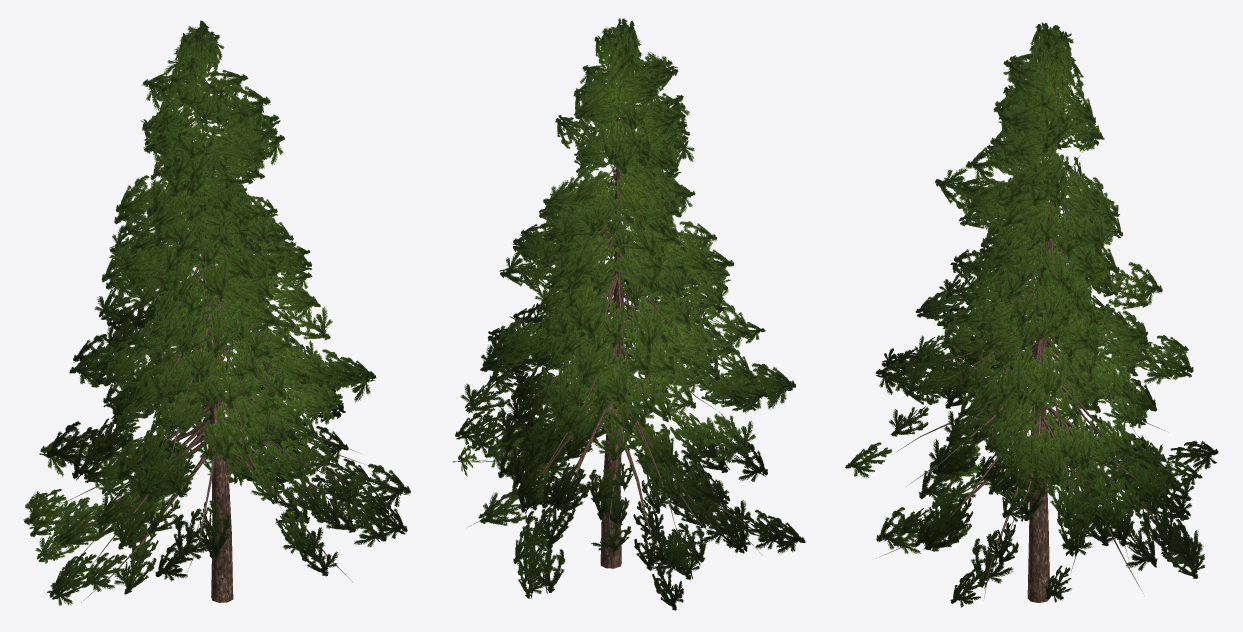
File: terraintale-fir_tree_large.glb
The picture shows the model from 3 angles, left to right: view 1: azimuth 30°, elevation 25°; view 2: azimuth 150°, elevation 25°; view 3: azimuth 270°, elevation 25°; orthographic projection. The views are drawn at different scales.
Visible parts, largest first — view 1: fir_tree_large; view 2: fir_tree_large; view 3: fir_tree_large.
Part boxes in pixels (x1=…): fir_tree_large: x1=23, y1=20, x2=410, y2=605; fir_tree_large: x1=452, y1=18, x2=805, y2=610; fir_tree_large: x1=845, y1=22, x2=1218, y2=607.
Bounding box in the file's own units: 4.17 × 6.49 × 4.03.
Materials: 2 (2 with a texture image).
